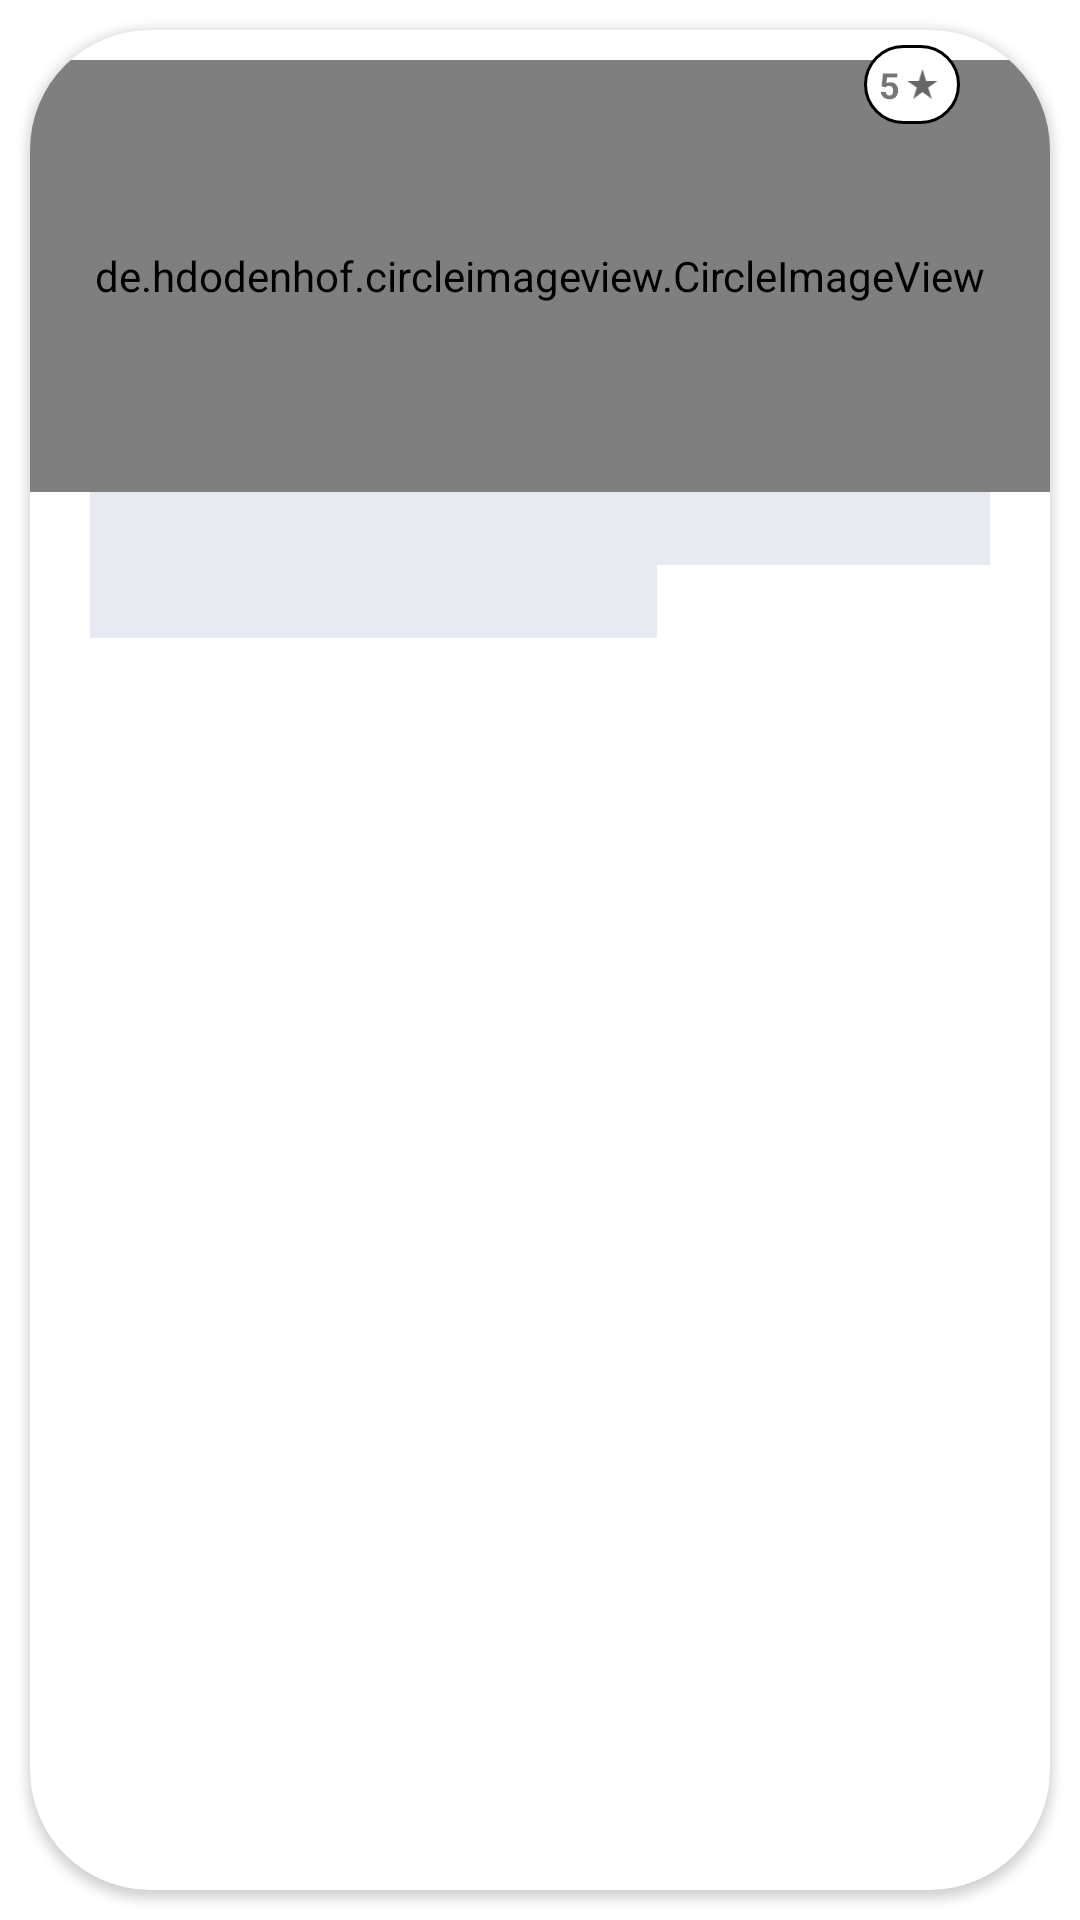

Screen size 1080px×1920px. Icon name, then its center in pixels as [x,y]:
star: [922,84]
